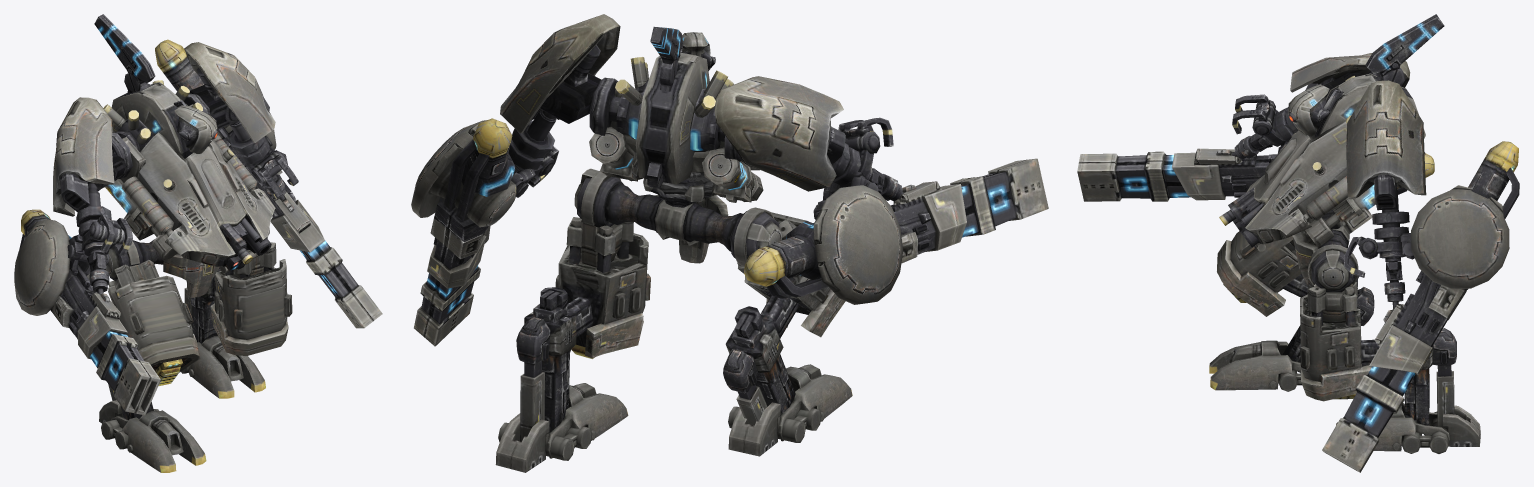
File: robo_obj_pose4.glb
3 views of the same model, side by side, from view 1: azimuth 30°, elevation 25°; view 2: azimuth 150°, elevation 25°; view 3: azimuth 270°, elevation 25° (orthographic). The views are drawn at different scales.
Parts seen in each view (by area): view 1: Object_4, Object_2, Object_3; view 2: Object_4, Object_2, Object_3; view 3: Object_4, Object_2, Object_3.
Part boxes in pixels (x1=…): Object_4: x1=14, y1=17, x2=382, y2=465; Object_2: x1=53, y1=14, x2=360, y2=472; Object_3: x1=24, y1=49, x2=363, y2=455; Object_4: x1=411, y1=14, x2=1036, y2=472; Object_2: x1=418, y1=26, x2=1020, y2=460; Object_3: x1=420, y1=26, x2=1048, y2=472; Object_4: x1=1077, y1=17, x2=1519, y2=472; Object_2: x1=1113, y1=14, x2=1479, y2=472; Object_3: x1=1077, y1=65, x2=1519, y2=471.
Bounding box in the file's own units: 17.38 × 16.22 × 16.96.
Materials: 1 (1 with a texture image).
